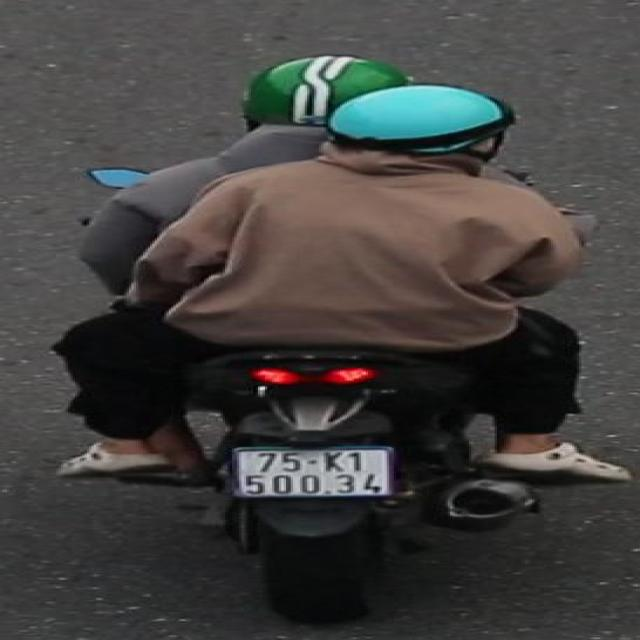LP: (220, 438, 412, 506)
helmet: (322, 79, 522, 166), (209, 41, 408, 128)
